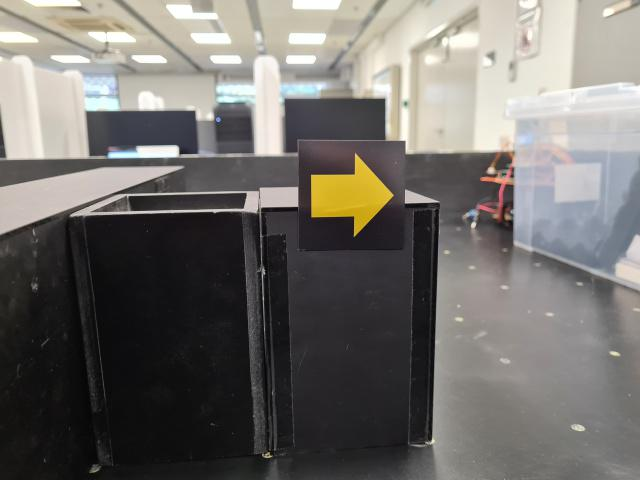right: (298, 138, 406, 250)
